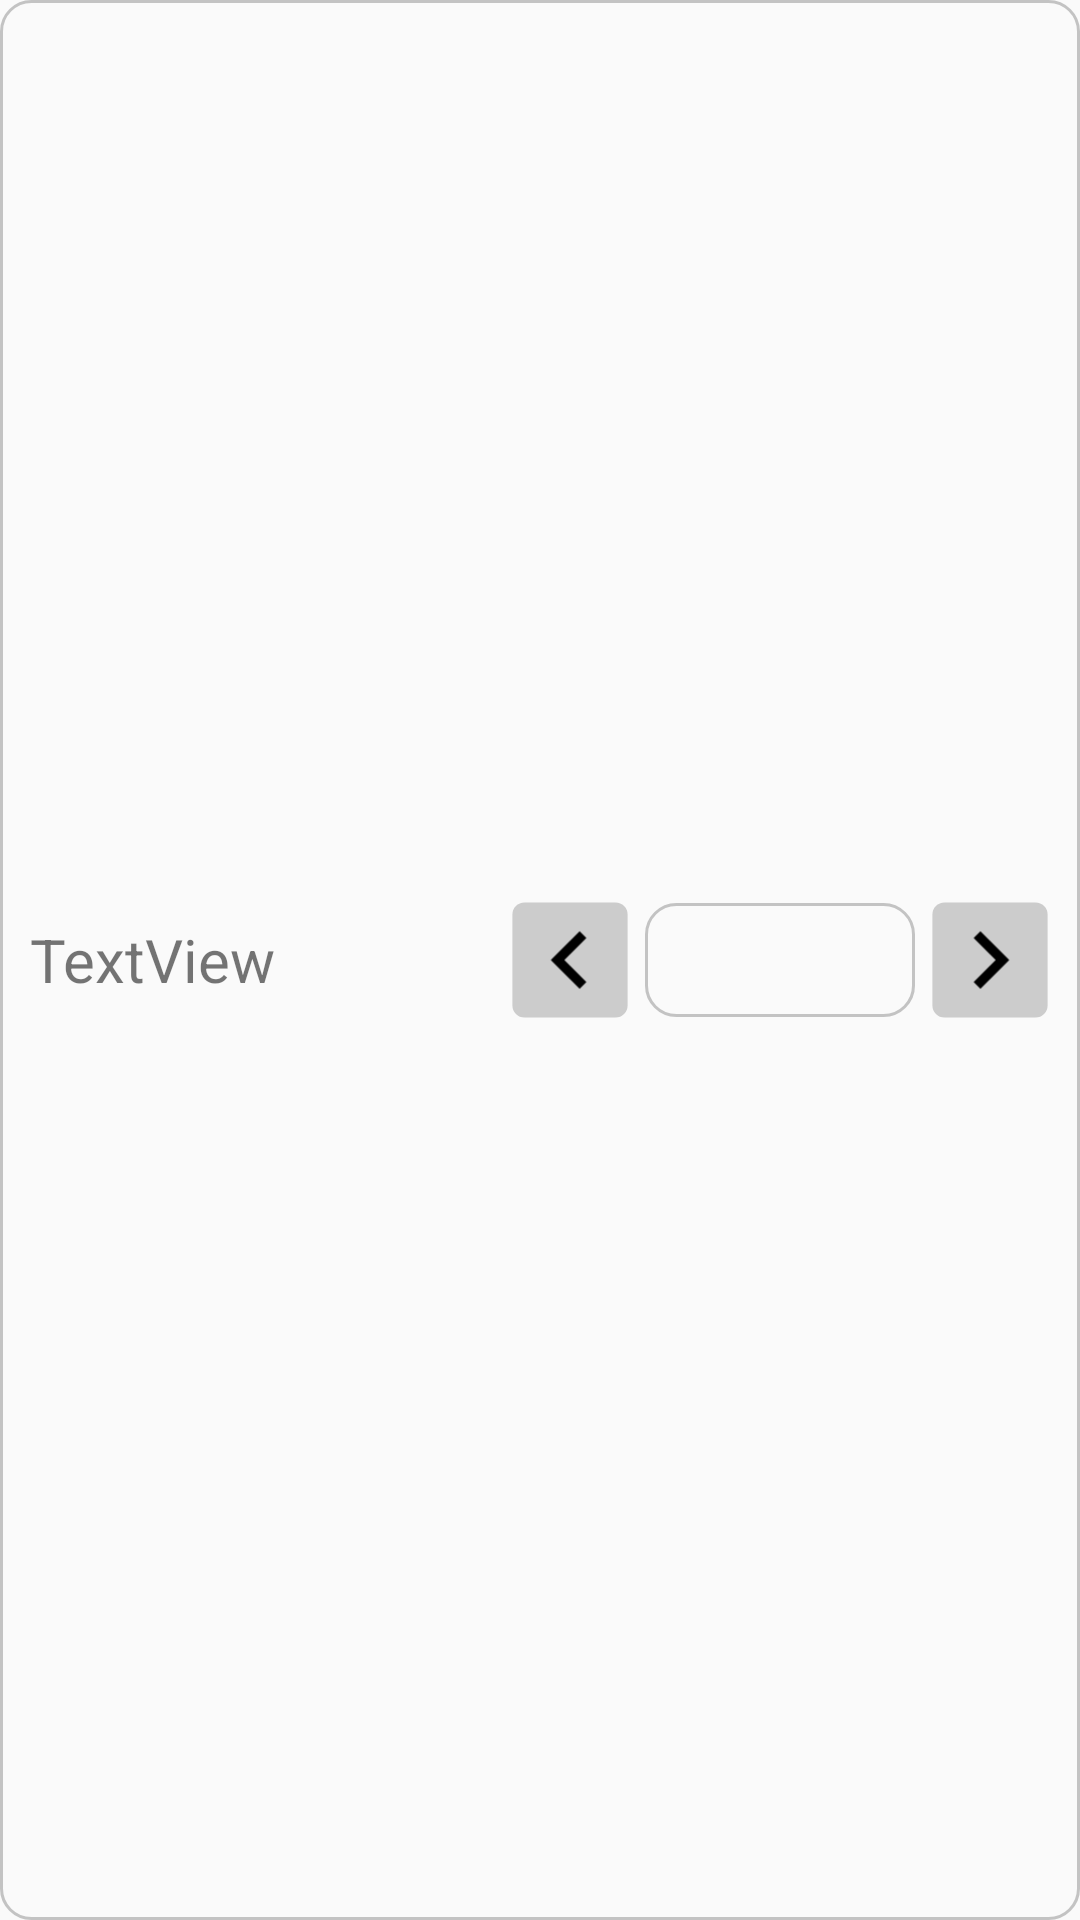

Icon click points for this 1080*1920 phone screenshot, format [x,y]:
square left: [570,960]
square right: [990,960]
